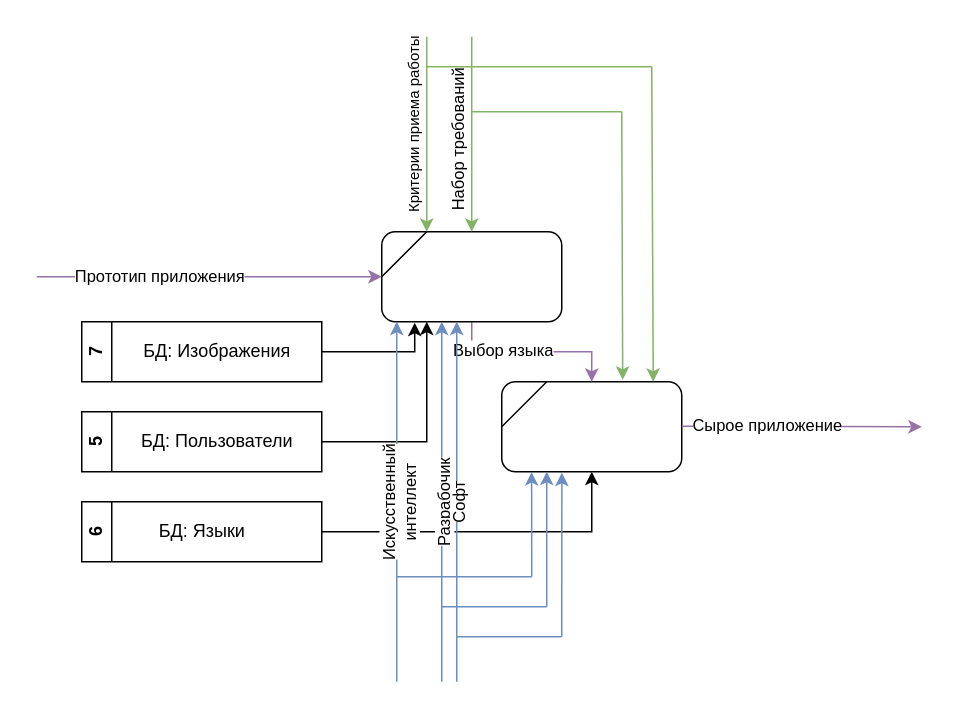
The diagram is 960 pixels wide and 720 high, and some of its shapes have lost their labels. Each missing label, with the centre of its shape:
"Форма выбор языка" belongs at [591,426].
"Форма перевод изображения" belongs at [471,276].
